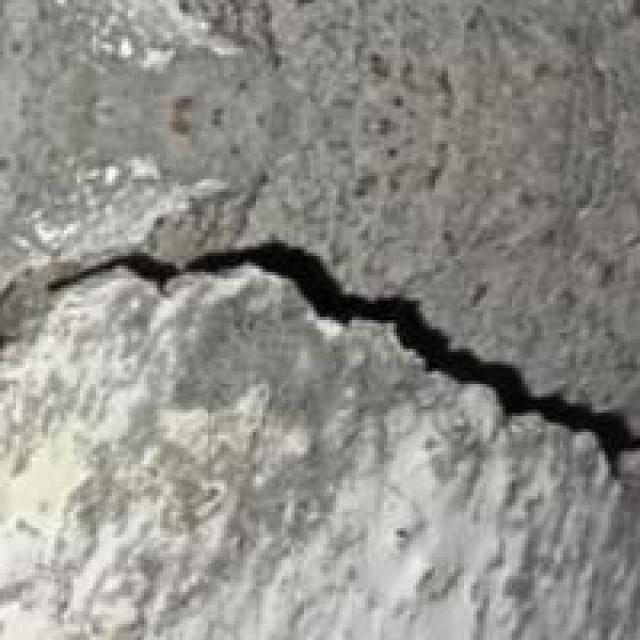Crack: (3, 208, 637, 525)
